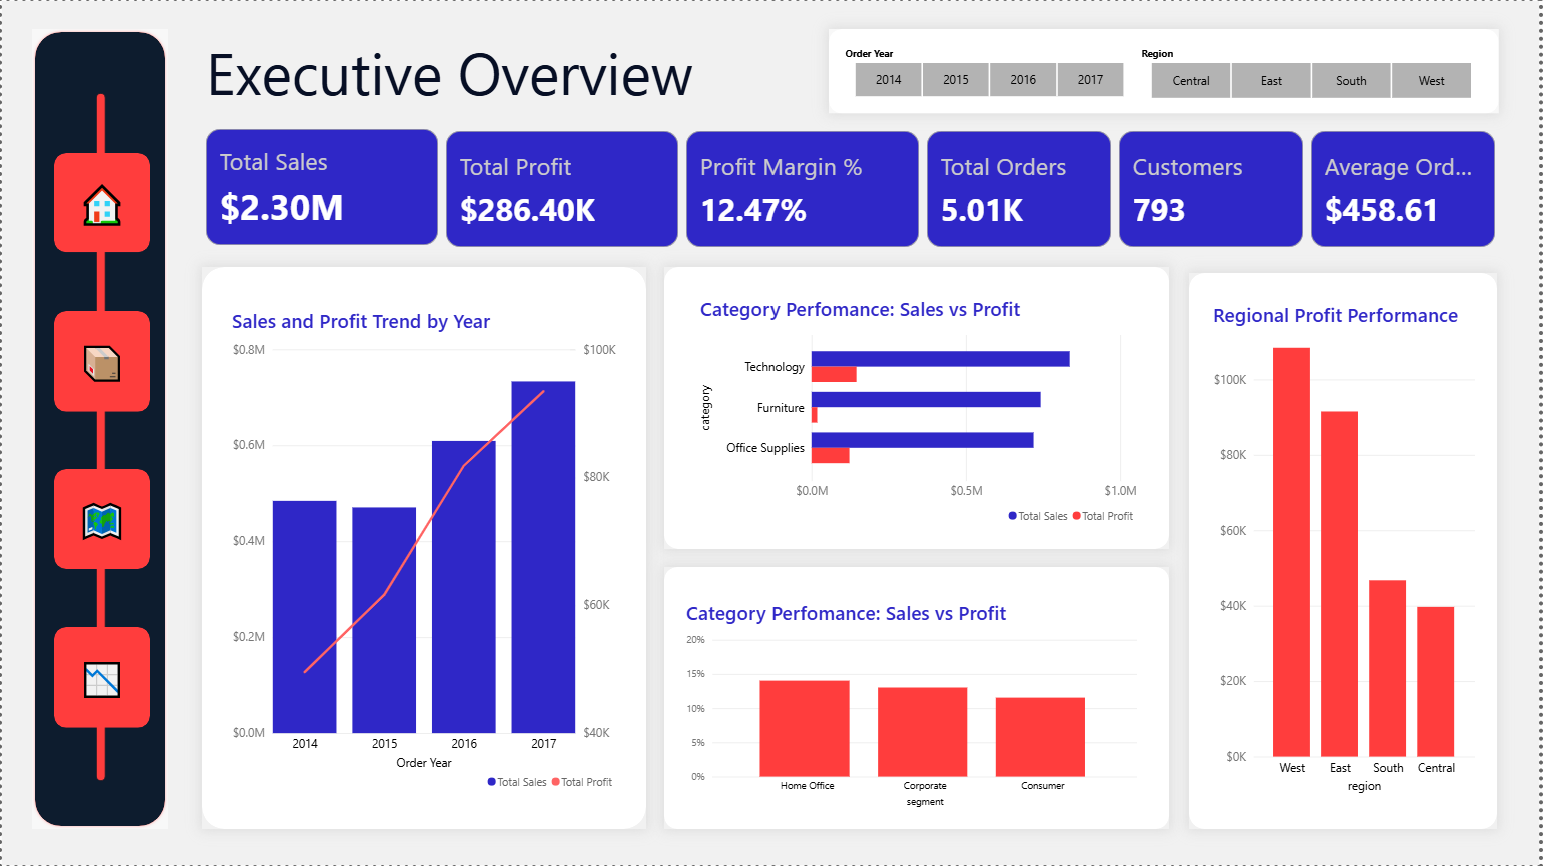

Layout of this report page (visuals, bound fields, positions):
{"tool":"powerbi","page":{"name":"Overview","canvas":[1920,1080],"ordinal":0},"visuals":[{"type":"shape","box":[38.5,35,170,1000],"z":0},{"type":"shape","box":[118,114,12,860],"z":1000},{"type":"cardVisual","fields":{"Data":["superstore_full.Total Sales"]},"box":[249.1,155.9,300,155],"z":2000},{"type":"shape","box":[827.5,332.5,630,352.5],"z":3000},{"type":"cardVisual","fields":{"Data":["superstore_full.Total Profit"]},"box":[550.3,157.1,300,155],"z":4000},{"type":"cardVisual","fields":{"Data":["superstore_full.Profit Margin %"]},"box":[850.3,157.1,300,155],"z":5000},{"type":"cardVisual","fields":{"Data":["superstore_full.Total Orders"]},"box":[1150.3,157.1,240,155],"z":6000},{"type":"cardVisual","fields":{"Data":["superstore_full.Total Customers"]},"box":[1390.3,157.1,240,155],"z":7000},{"type":"clusteredBarChart","title":"Category Perfomance: Sales vs Profit","fields":{"Category":["superstore_full.category"],"Y":["superstore_full.Total Sales","superstore_full.Total Profit"]},"box":[862.5,357.5,565,310],"z":8000},{"type":"shape","box":[250,332.5,555,702.5],"z":9000},{"type":"lineClusteredColumnComboChart","title":"Sales and Profit Trend by Year","fields":{"Category":["superstore_full.Order Year"],"Y":["superstore_full.Total Sales"],"Y2":["superstore_full.Total Profit"]},"box":[277.5,372.5,500,627.5],"z":10000},{"type":"shape","box":[827.5,707.5,630,327.5],"z":11000},{"type":"columnChart","title":"Category Perfomance: Sales vs Profit","fields":{"Category":["superstore_full.segment"],"Y":["superstore_full.Profit Margin %"]},"box":[845,737.5,582.5,280],"z":12000},{"type":"shape","box":[1482.5,340,385,695],"z":13000},{"type":"clusteredColumnChart","title":"Regional Profit Performance","fields":{"Category":["superstore_full.region"],"Y":["superstore_full.Total Profit"]},"box":[1502.5,365,347.5,635],"z":14000},{"type":"cardVisual","fields":{"Data":["superstore_full.Average Order Value"]},"box":[1630.3,157.1,240,155],"z":15000},{"type":"textbox","box":[251.1,35.6,708.9,128.9],"z":16000},{"type":"actionButton","box":[64.5,190,120,124],"z":17000},{"type":"actionButton","box":[64.5,386.3,120,126],"z":18000},{"type":"actionButton","box":[64.5,584.7,120,125],"z":19000},{"type":"actionButton","box":[64.5,782,120,126],"z":20000},{"type":"shape","box":[1032.9,35.7,837.1,105.7],"z":21000},{"type":"slicer","fields":{"Values":["superstore_full.Order Year"]},"box":[1039.9,53.3,384.4,73.3],"z":22000},{"type":"slicer","fields":{"Values":["superstore_full.region"]},"box":[1411,53.7,448.9,75.6],"z":23000}]}

Visuals, with their boxes in screenshot pixels (x1, y1, x2, y2), scaled from the page's 1920x1080 canvas onto the 1543x866 screenshot:
shape: Rect(31, 28, 168, 830)
shape: Rect(95, 91, 104, 781)
cardVisual - superstore_full.Total Sales: Rect(200, 125, 441, 249)
shape: Rect(665, 267, 1171, 549)
cardVisual - superstore_full.Total Profit: Rect(442, 126, 683, 250)
cardVisual - superstore_full.Profit Margin %: Rect(683, 126, 924, 250)
cardVisual - superstore_full.Total Orders: Rect(924, 126, 1117, 250)
cardVisual - superstore_full.Total Customers: Rect(1117, 126, 1310, 250)
"Category Perfomance: Sales vs Profit" clusteredBarChart: Rect(693, 287, 1147, 535)
shape: Rect(201, 267, 647, 830)
"Sales and Profit Trend by Year" lineClusteredColumnComboChart: Rect(223, 299, 625, 802)
shape: Rect(665, 567, 1171, 830)
"Category Perfomance: Sales vs Profit" columnChart: Rect(679, 591, 1147, 816)
shape: Rect(1191, 273, 1501, 830)
"Regional Profit Performance" clusteredColumnChart: Rect(1207, 293, 1487, 802)
cardVisual - superstore_full.Average Order Value: Rect(1310, 126, 1503, 250)
textbox: Rect(202, 29, 772, 132)
actionButton: Rect(52, 152, 148, 252)
actionButton: Rect(52, 310, 148, 411)
actionButton: Rect(52, 469, 148, 569)
actionButton: Rect(52, 627, 148, 728)
shape: Rect(830, 29, 1503, 113)
slicer - superstore_full.Order Year: Rect(836, 43, 1145, 102)
slicer - superstore_full.region: Rect(1134, 43, 1495, 104)
